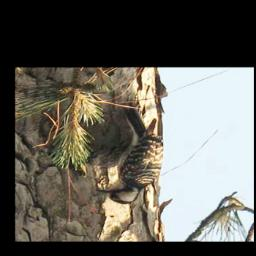Woodpecker: (95, 105, 165, 205)
